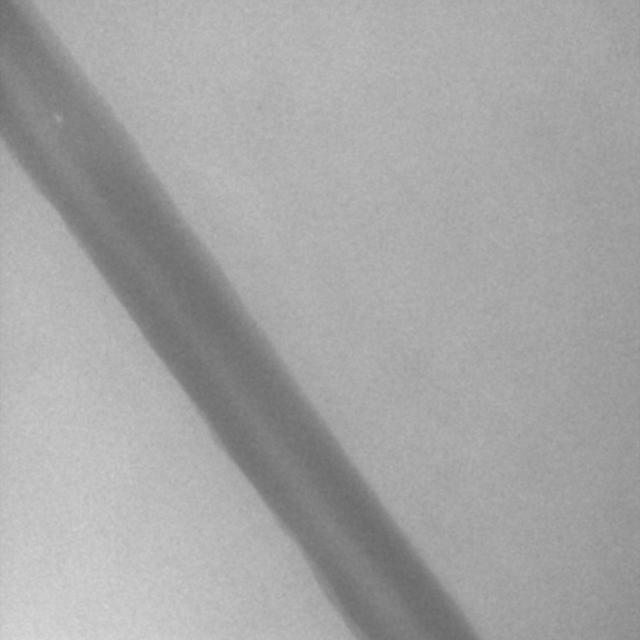air-hole: (53, 112, 65, 126)
